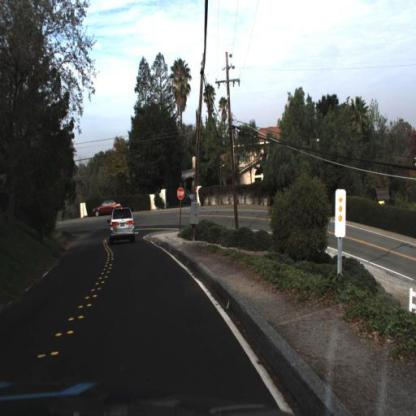car: (105, 202, 140, 245), (108, 206, 137, 244), (94, 199, 123, 217), (181, 186, 200, 205)
